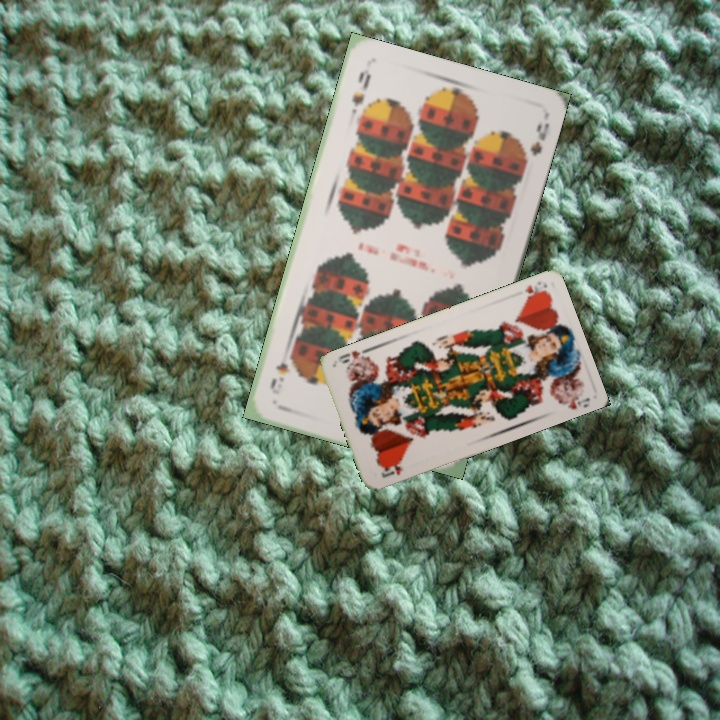HO: (520, 277, 549, 302), (377, 456, 406, 480)
S9: (347, 67, 374, 110)
